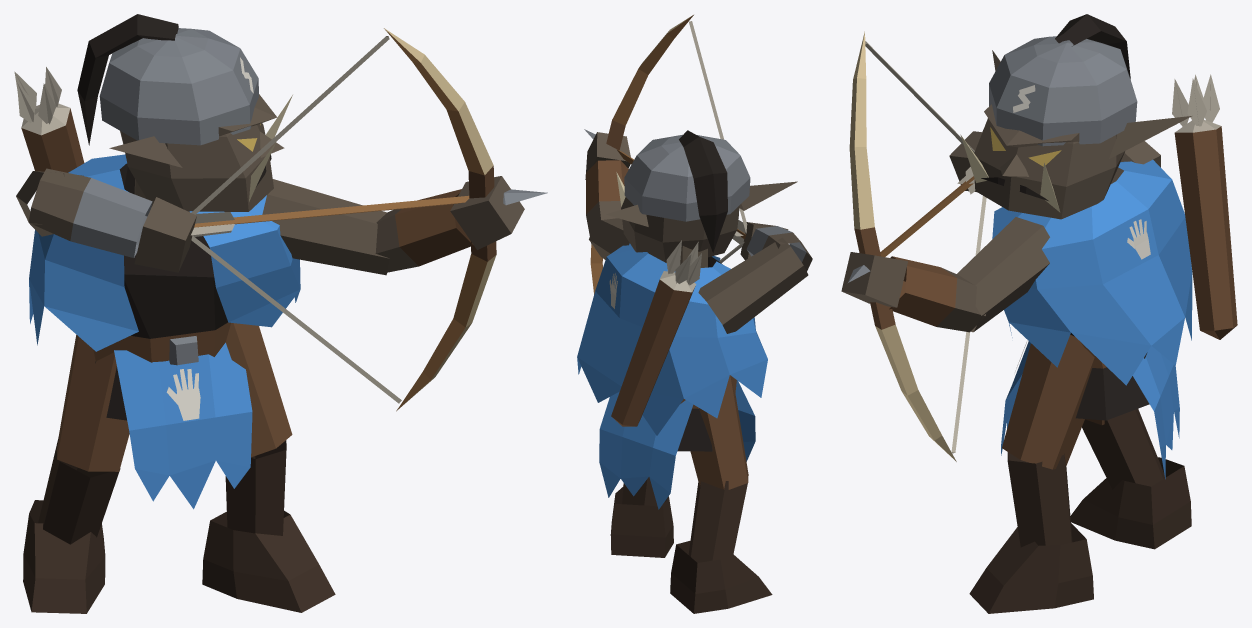
Rendered from lurtz.glb.
3 renders of one model, left to right at view 1: azimuth 30°, elevation 25°; view 2: azimuth 150°, elevation 25°; view 3: azimuth 270°, elevation 25°, orthographic. The views are drawn at different scales.
Parts seen in each view (by area): view 1: lurtz; view 2: lurtz; view 3: lurtz.
Boxes of the visible parts, x1=… form: lurtz: x1=14, y1=14, x2=547, y2=613; lurtz: x1=577, y1=15, x2=812, y2=613; lurtz: x1=841, y1=14, x2=1237, y2=613.
Bounding box in the file's own units: 1.06 × 1.53 × 0.9581.
